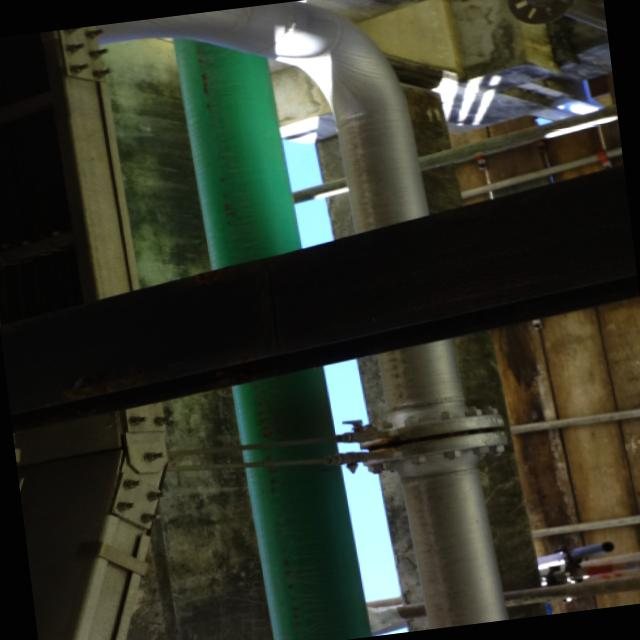gas: (94, 1, 424, 232), (225, 365, 366, 640), (379, 338, 504, 629), (173, 37, 299, 267), (526, 0, 605, 30)
